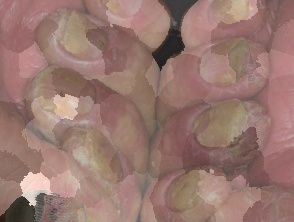Nail_psoriasis: (5, 43, 126, 164), (27, 1, 138, 84), (58, 117, 150, 208), (170, 95, 273, 168), (142, 160, 238, 222), (180, 36, 268, 103), (192, 2, 267, 39), (88, 0, 162, 31)
